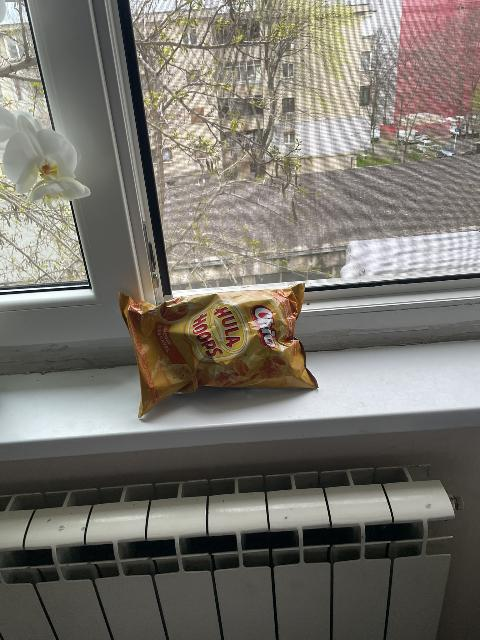Chio Hula Hoops Cheese 70g: (121, 284, 317, 416)
